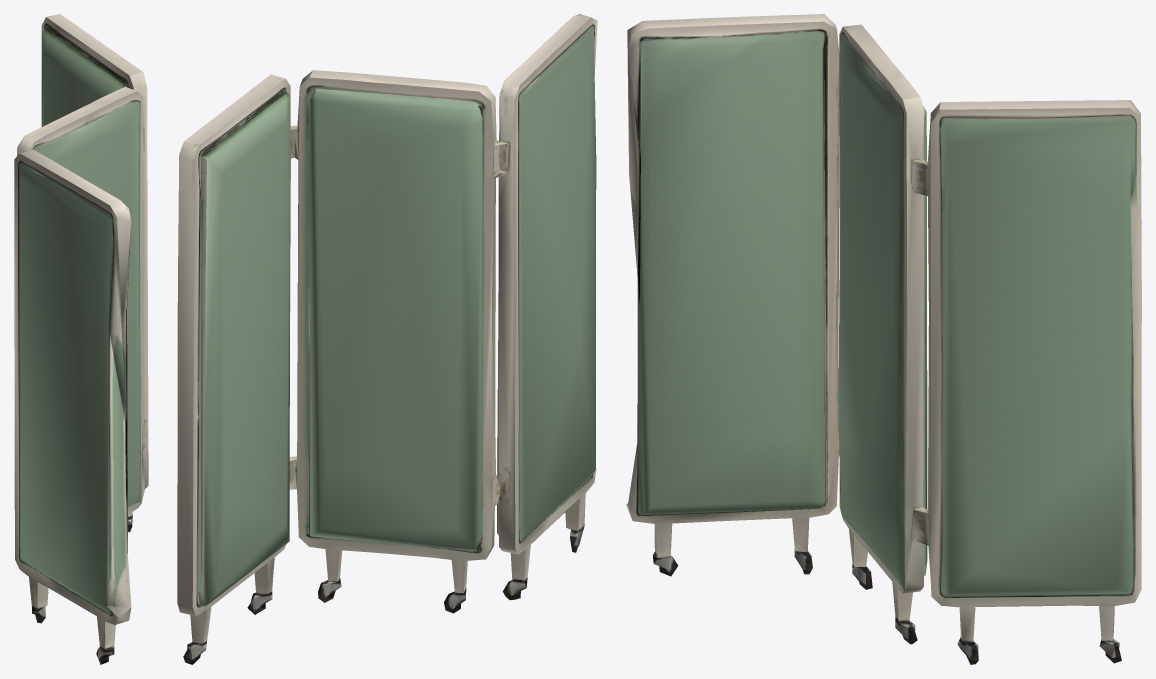
3 renders of one model, left to right at view 1: azimuth 30°, elevation 25°; view 2: azimuth 150°, elevation 25°; view 3: azimuth 270°, elevation 25°, orthographic. The views are drawn at different scales.
Visible parts, largest first — view 1: repaired; view 2: repaired; view 3: repaired.
Part boxes in pixels (<box>): repaired: <box>14,14,148,664</box>; repaired: <box>177,14,597,664</box>; repaired: <box>626,14,1141,664</box>.
Bounding box in the file's own units: 0.4038 × 0.9995 × 0.8386.
